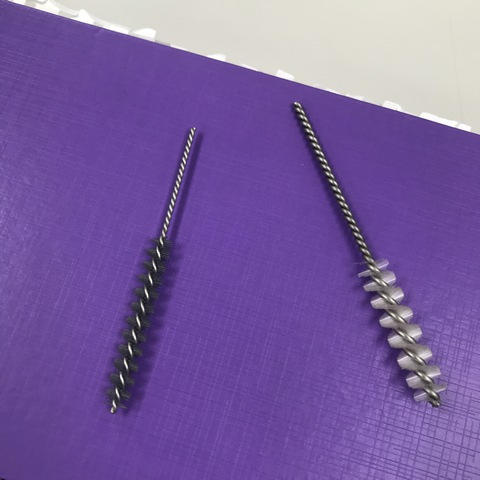Twist Brush-A: (101, 124, 202, 421)
Twist Brush-B: (284, 100, 455, 417)
